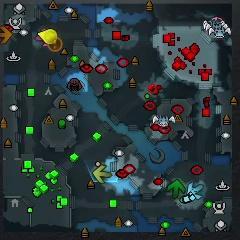Other: (48, 36, 63, 51)
p4: (39, 28, 58, 45)
x1: (35, 35, 48, 47)
x2: (92, 164, 113, 182)
x3: (187, 183, 205, 201)
x4: (166, 180, 184, 198)
x5: (0, 25, 12, 44)
